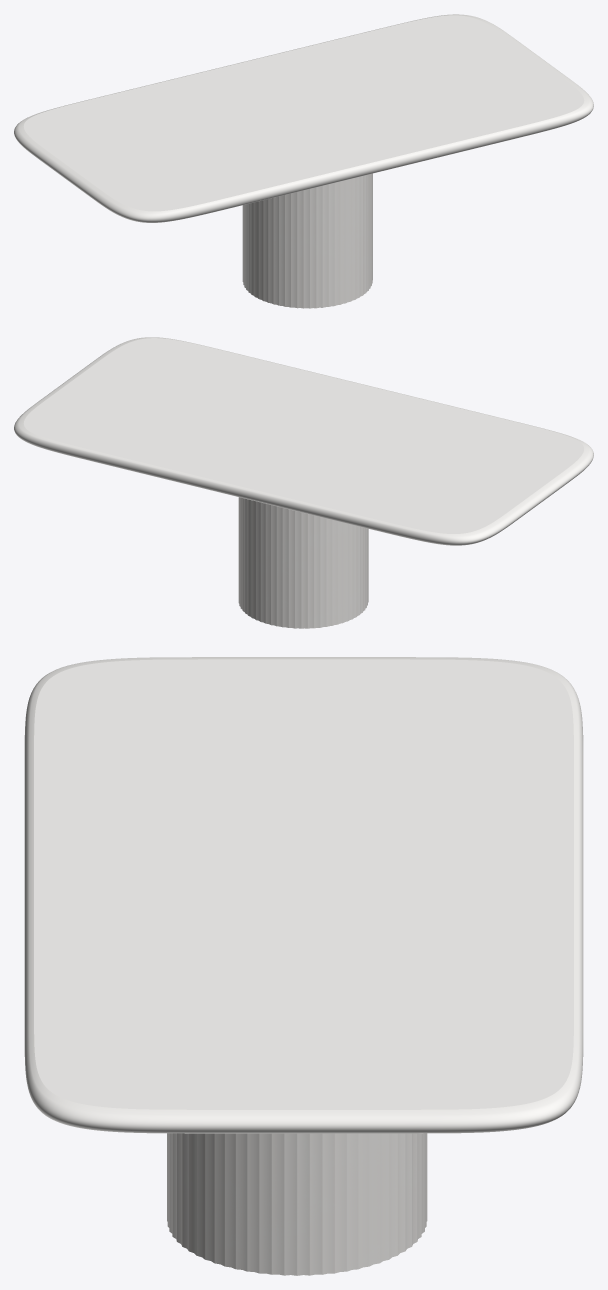
The model's file is purewhite_softrecta_round_ripple.glb.
3 renders of one model, top to bottom at view 1: azimuth 30°, elevation 25°; view 2: azimuth 150°, elevation 25°; view 3: azimuth 270°, elevation 25°, orthographic. The views are drawn at different scales.
Parts seen in each view (by area): view 1: round_softrecta, ripple; view 2: round_softrecta, ripple; view 3: round_softrecta, ripple.
Part boxes in pixels (x1,y1,x2,y2): round_softrecta: [14, 14, 593, 222]; ripple: [242, 173, 372, 308]; round_softrecta: [14, 337, 593, 545]; ripple: [238, 497, 368, 628]; round_softrecta: [24, 657, 583, 1133]; ripple: [167, 1133, 427, 1275].
Size of the model in its own units: 7.5 by 2.51 by 3.8.
1 material, 1 textured.
